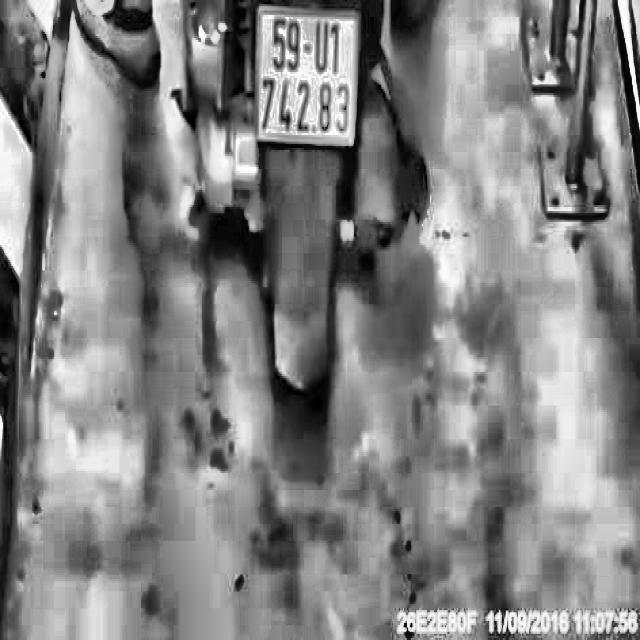plate: (249, 0, 360, 154)
